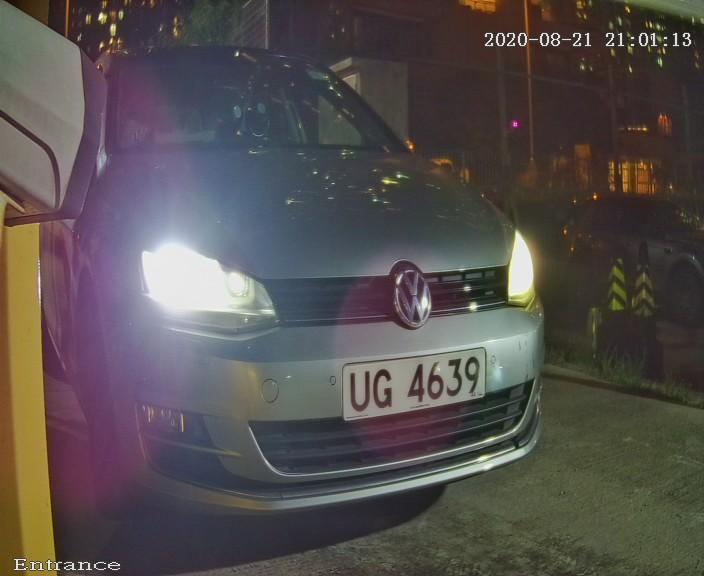Car: (13, 6, 613, 569)
License Plate: (322, 333, 504, 436)
